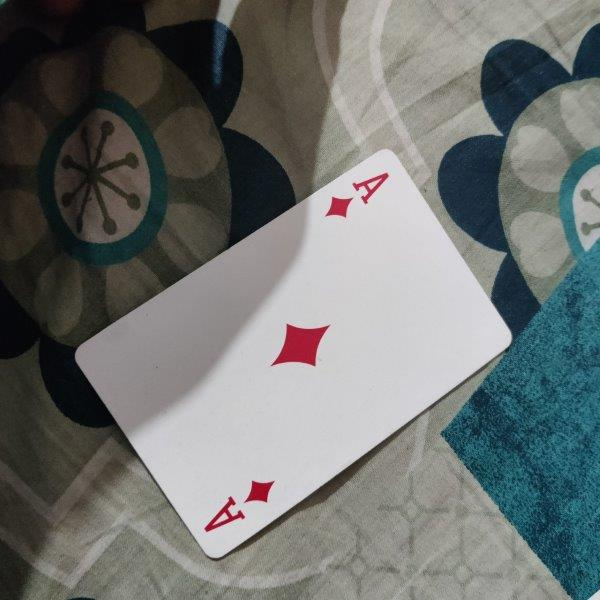Ace of Diamonds: (74, 150, 516, 561)
